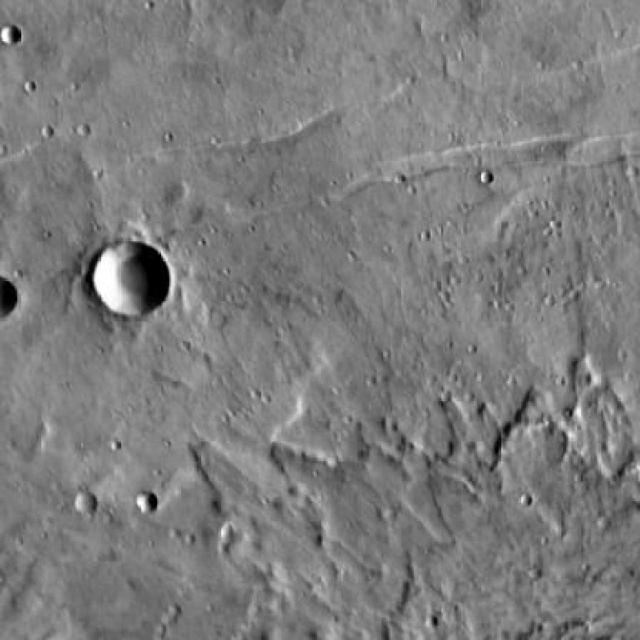crater: (93, 241, 172, 316), (136, 491, 158, 511), (75, 492, 96, 512)
